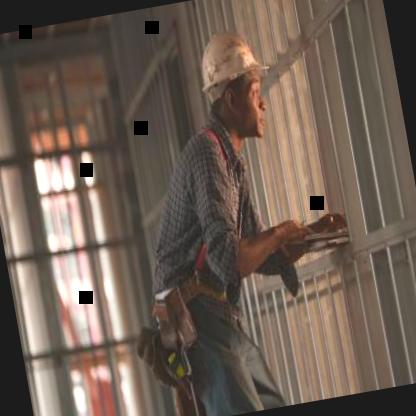helmet: (184, 12, 278, 149)
